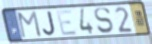2: (114, 5, 135, 34)
4: (79, 7, 95, 36)
E: (55, 9, 79, 37)
J: (42, 10, 57, 37)
M: (16, 10, 43, 40)
S: (93, 6, 115, 35)
